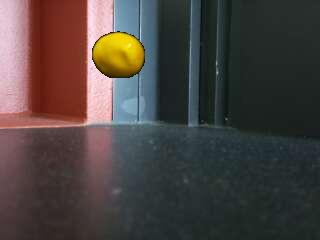Potato: (91, 31, 146, 79)
